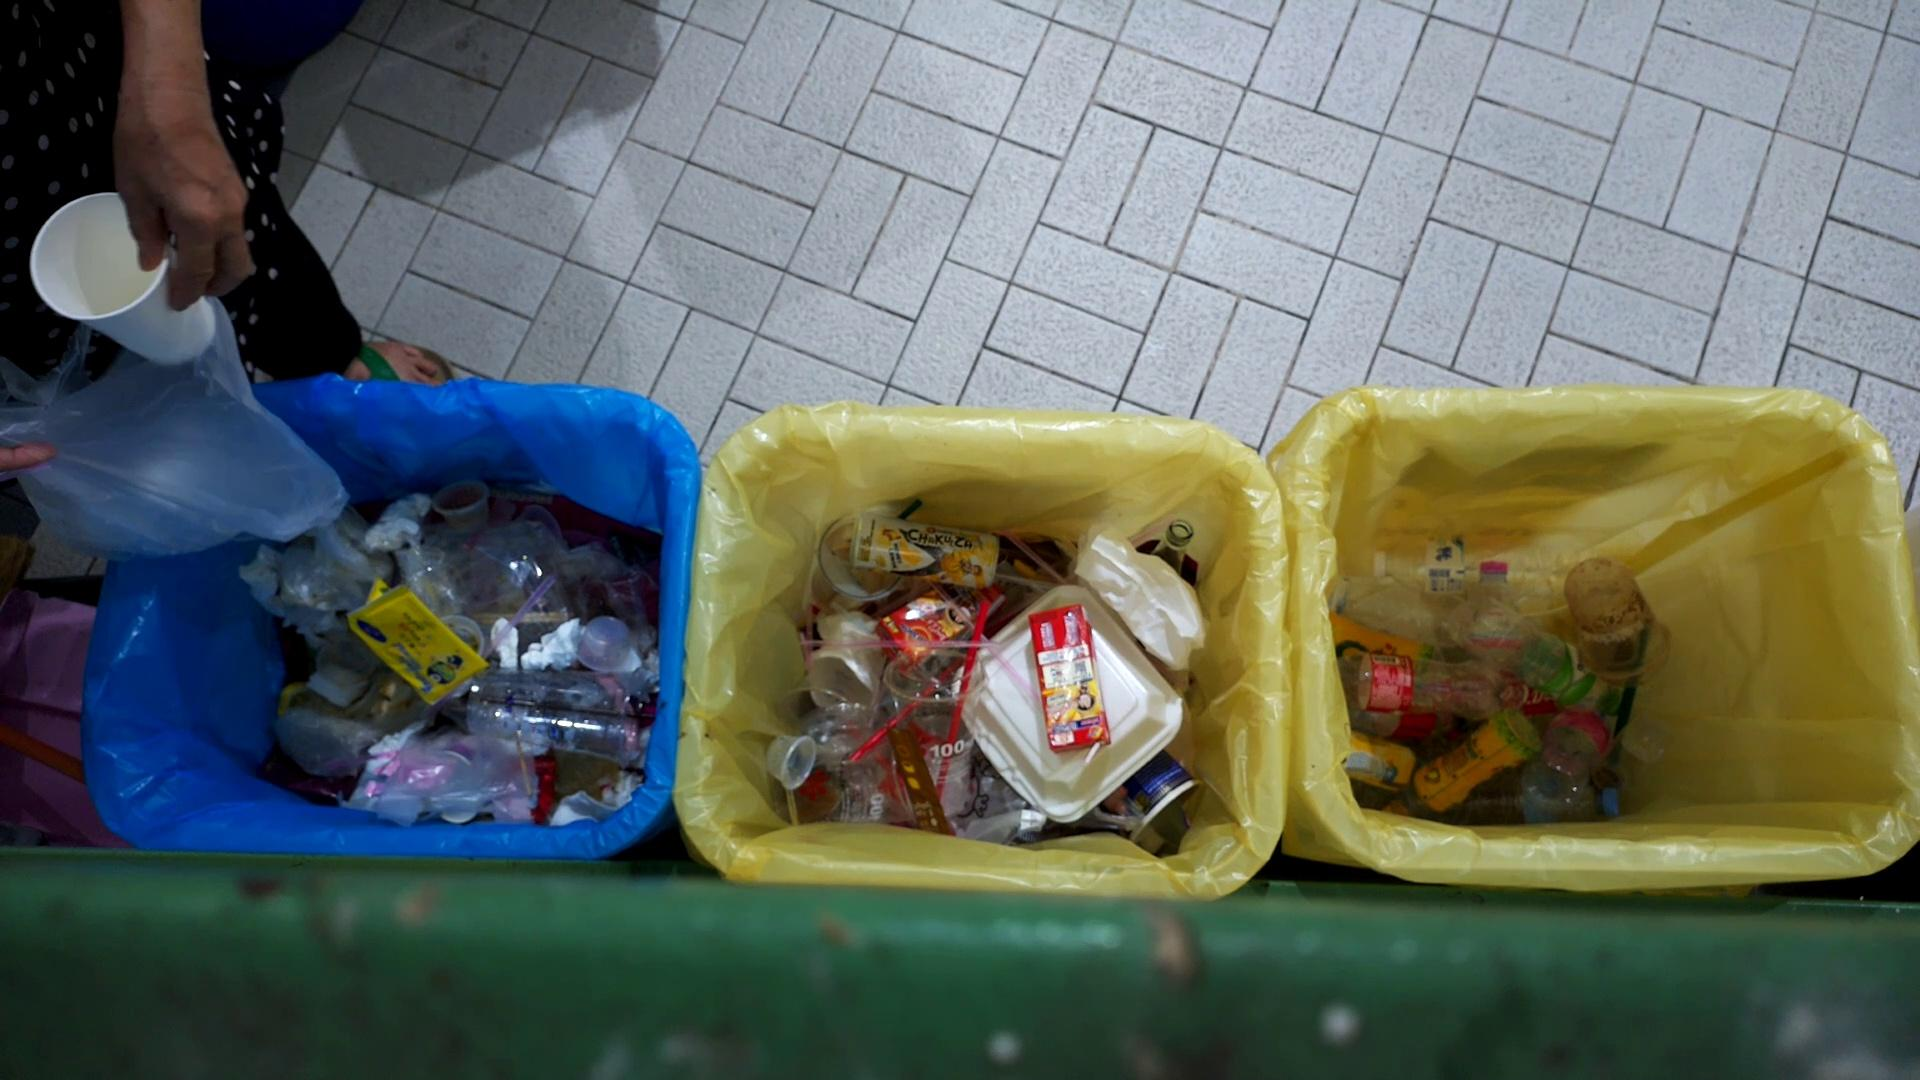can: (840, 512, 1005, 592)
food container: (952, 589, 1192, 828), (571, 613, 638, 676), (447, 580, 513, 642), (433, 473, 492, 533), (766, 728, 818, 795)
milk carton: (878, 558, 1000, 675), (1025, 604, 1116, 760)
plastic bag: (0, 315, 339, 556), (348, 572, 498, 691), (450, 517, 582, 629), (386, 737, 530, 835)
plastic bottle: (1448, 576, 1643, 721), (1365, 533, 1604, 600), (1398, 709, 1536, 814), (1323, 651, 1509, 717), (1324, 611, 1437, 690), (1345, 727, 1439, 793)
plastic cup: (462, 640, 650, 767), (877, 663, 981, 823), (1573, 553, 1673, 687)
snack packaging: (889, 727, 951, 837)
straw: (918, 506, 1164, 663), (827, 653, 965, 779), (924, 560, 1033, 712), (945, 605, 986, 785), (1000, 525, 1081, 584)
tissue paper: (1069, 521, 1224, 678), (804, 611, 893, 715), (782, 727, 851, 827), (543, 781, 636, 832), (513, 612, 592, 667), (360, 496, 430, 554), (452, 625, 517, 680)
